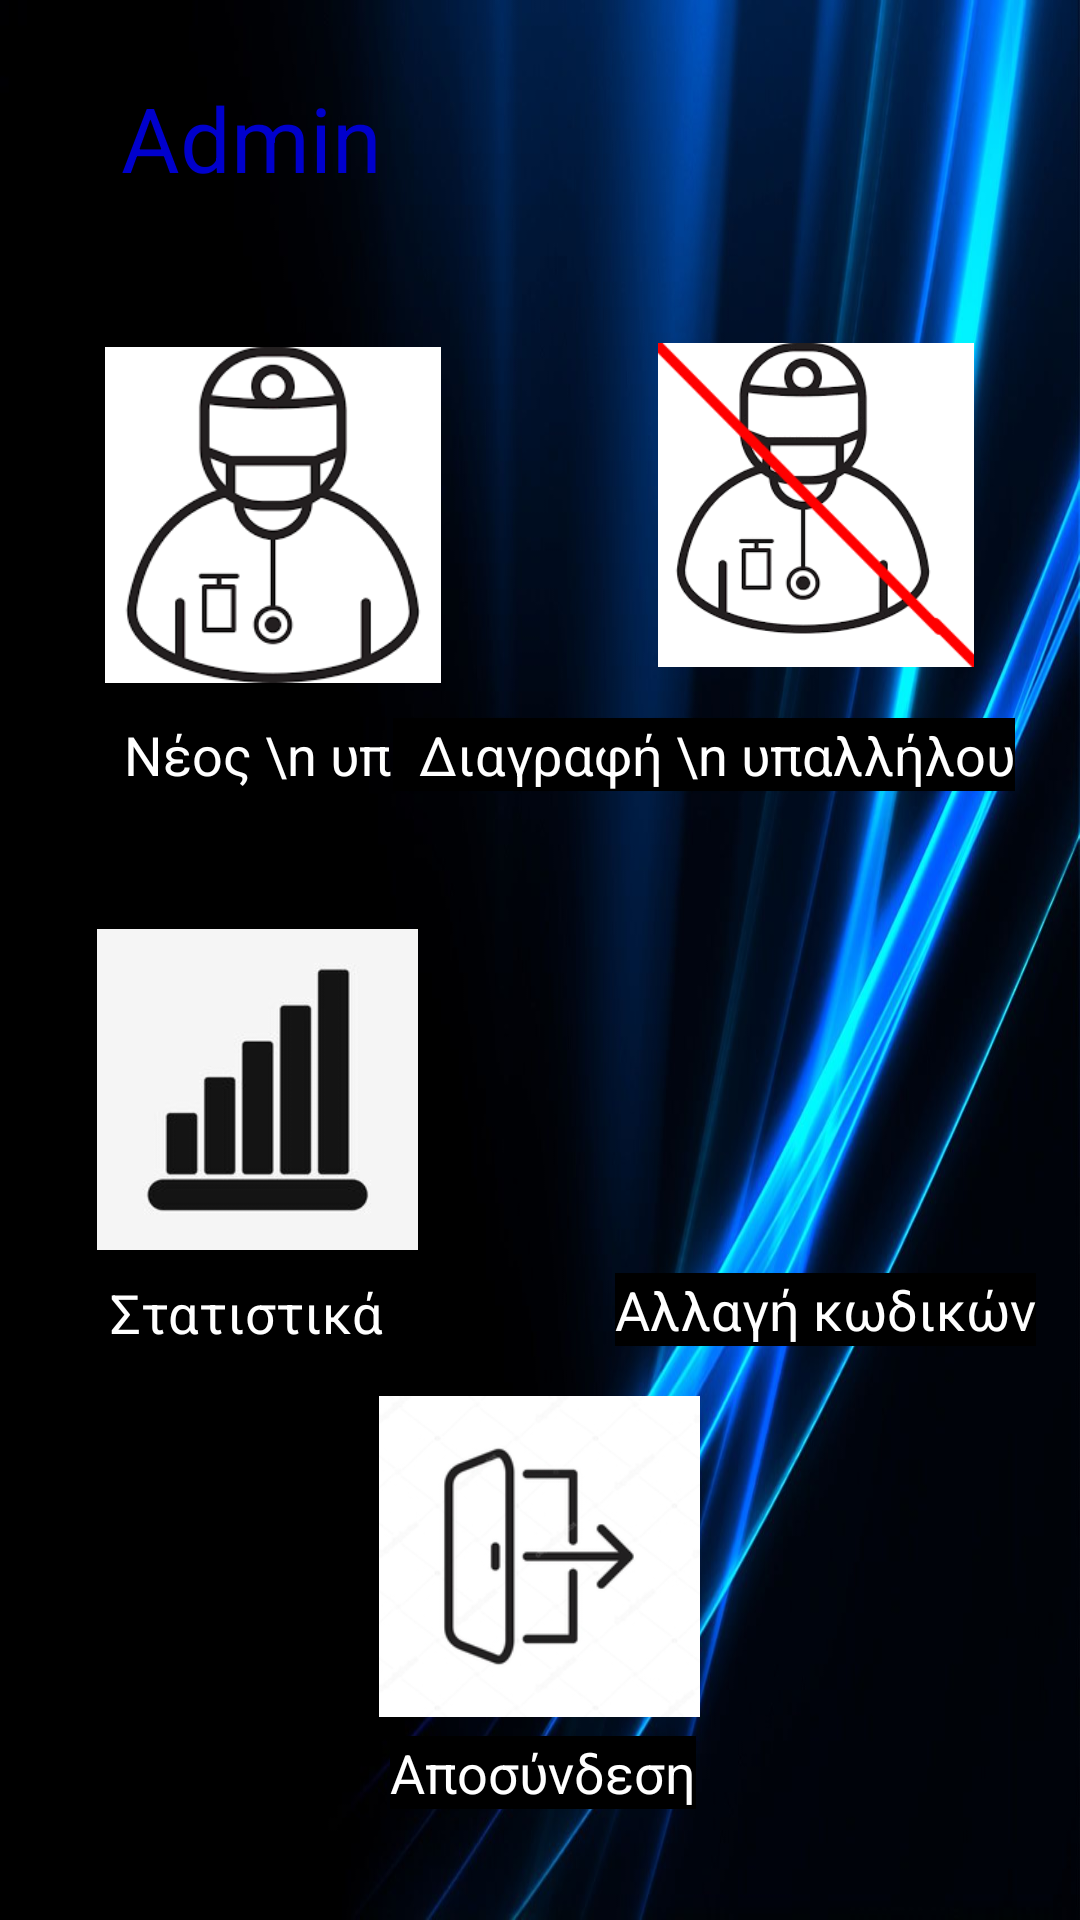

Icons on this 1080x1920 Android screen, each with its box as {"x1": x1, "y1": y1, "x2": x2, "y2": y2}:
doc: {"x1": 105, "y1": 347, "x2": 447, "y2": 683}
